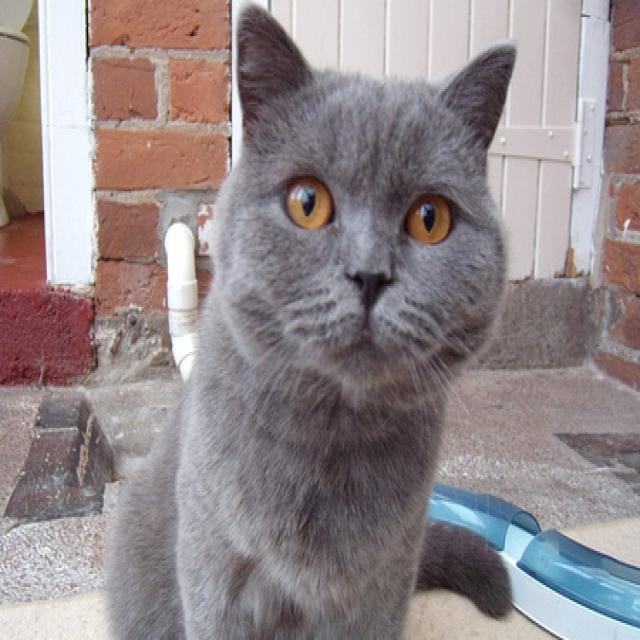British Shorthair: (100, 0, 519, 640)
